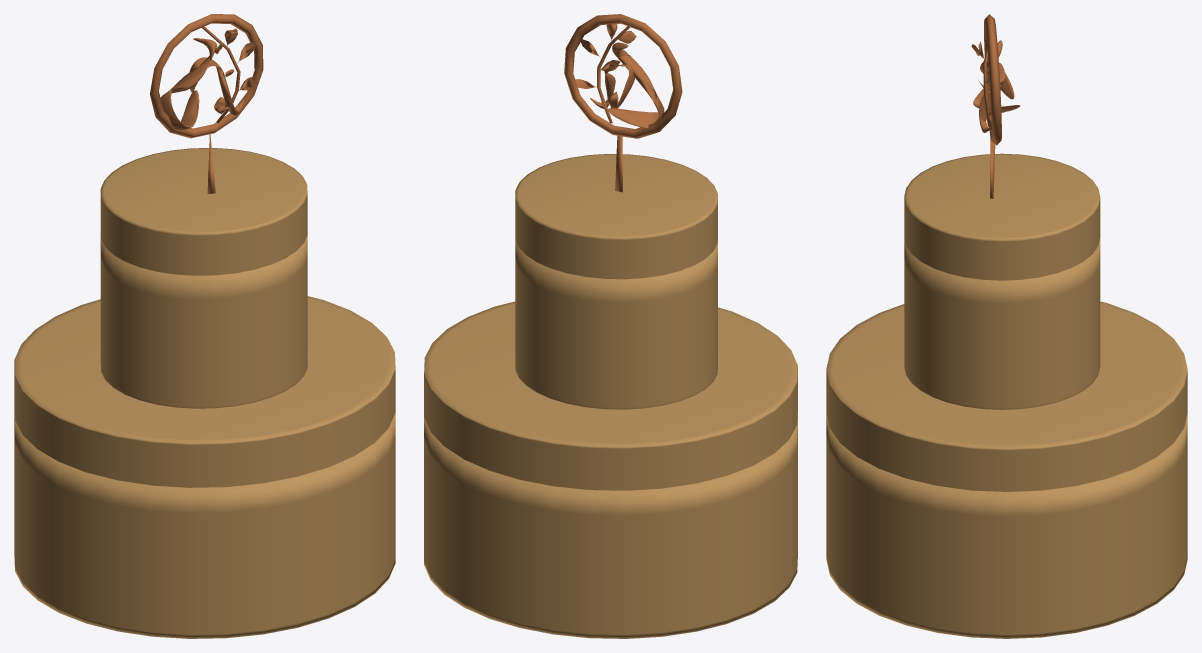
The model's file is 2-tier-caramel-none-ring.glb.
The picture shows the model from 3 angles, left to right: view 1: azimuth 30°, elevation 25°; view 2: azimuth 150°, elevation 25°; view 3: azimuth 270°, elevation 25°; orthographic projection. The views are drawn at different scales.
Visible parts, largest first — view 1: Cylinder.023, Cylinder.013, Cylinder.011; view 2: Cylinder.023, Cylinder.013, Cylinder.011; view 3: Cylinder.023, Cylinder.013, Cylinder.011.
Boxes of the visible parts, bbox=[...] form: Cylinder.023: bbox=[14, 296, 395, 638]; Cylinder.013: bbox=[100, 148, 307, 408]; Cylinder.011: bbox=[150, 14, 263, 193]; Cylinder.023: bbox=[424, 301, 797, 638]; Cylinder.013: bbox=[515, 154, 717, 409]; Cylinder.011: bbox=[564, 14, 682, 192]; Cylinder.023: bbox=[826, 301, 1187, 638]; Cylinder.013: bbox=[904, 153, 1100, 409]; Cylinder.011: bbox=[971, 14, 1019, 198].
Size of the model in its own units: 3.4 by 5.36 by 3.27.
